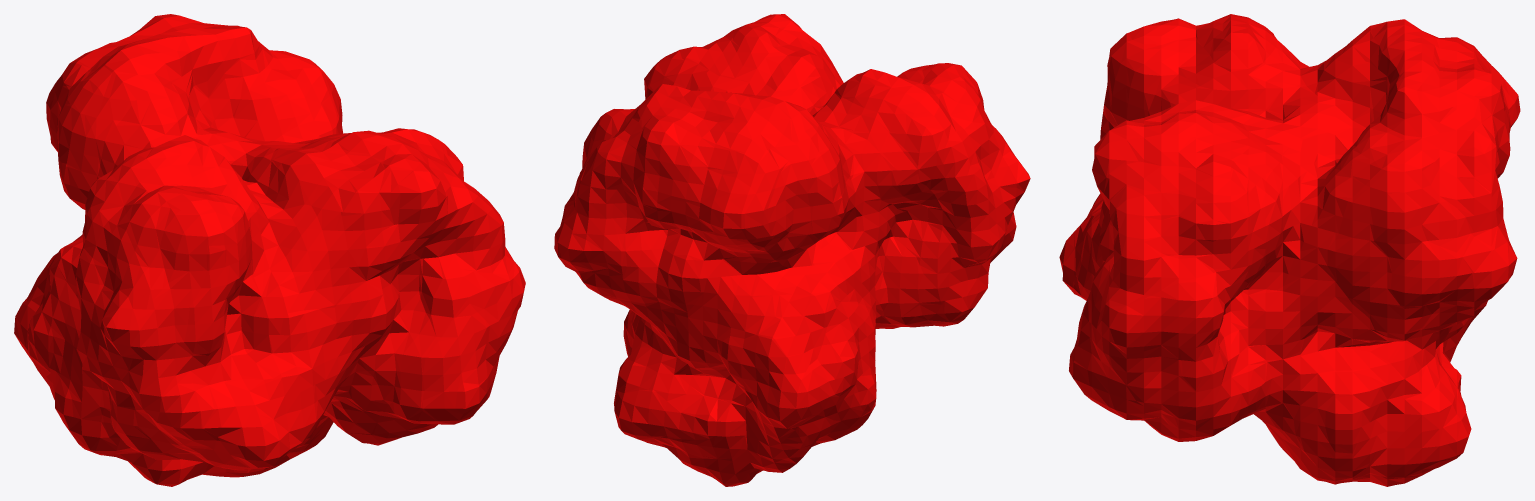
Rendered from gabD_coarse.dae.
3 views of the same model, side by side, from view 1: azimuth 30°, elevation 25°; view 2: azimuth 150°, elevation 25°; view 3: azimuth 270°, elevation 25° (orthographic). The views are drawn at different scales.
Visible parts, largest first — view 1: gabD; view 2: gabD; view 3: gabD.
Part boxes in pixels (x1=…): gabD: x1=14, y1=14, x2=525, y2=486; gabD: x1=554, y1=14, x2=1030, y2=486; gabD: x1=1059, y1=14, x2=1520, y2=486.
Bounding box in the file's own units: 97.5 × 98.27 × 96.26.
